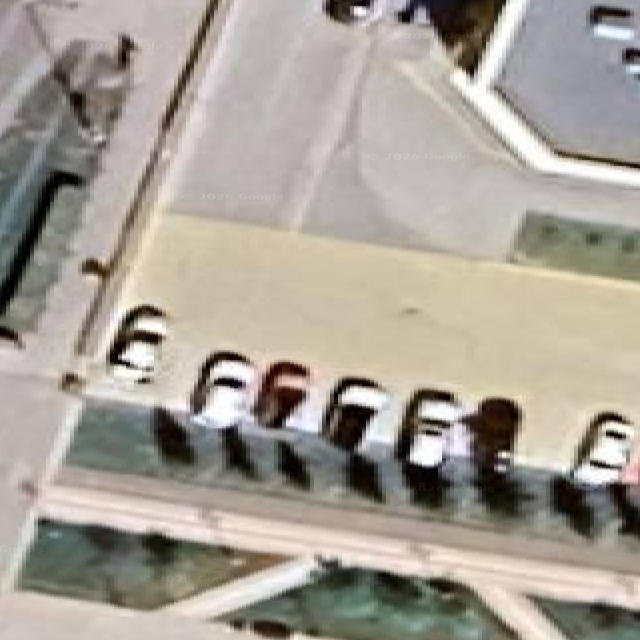car: (190, 351, 255, 428), (396, 389, 460, 467), (322, 377, 389, 450), (571, 413, 634, 486), (107, 306, 166, 383)
